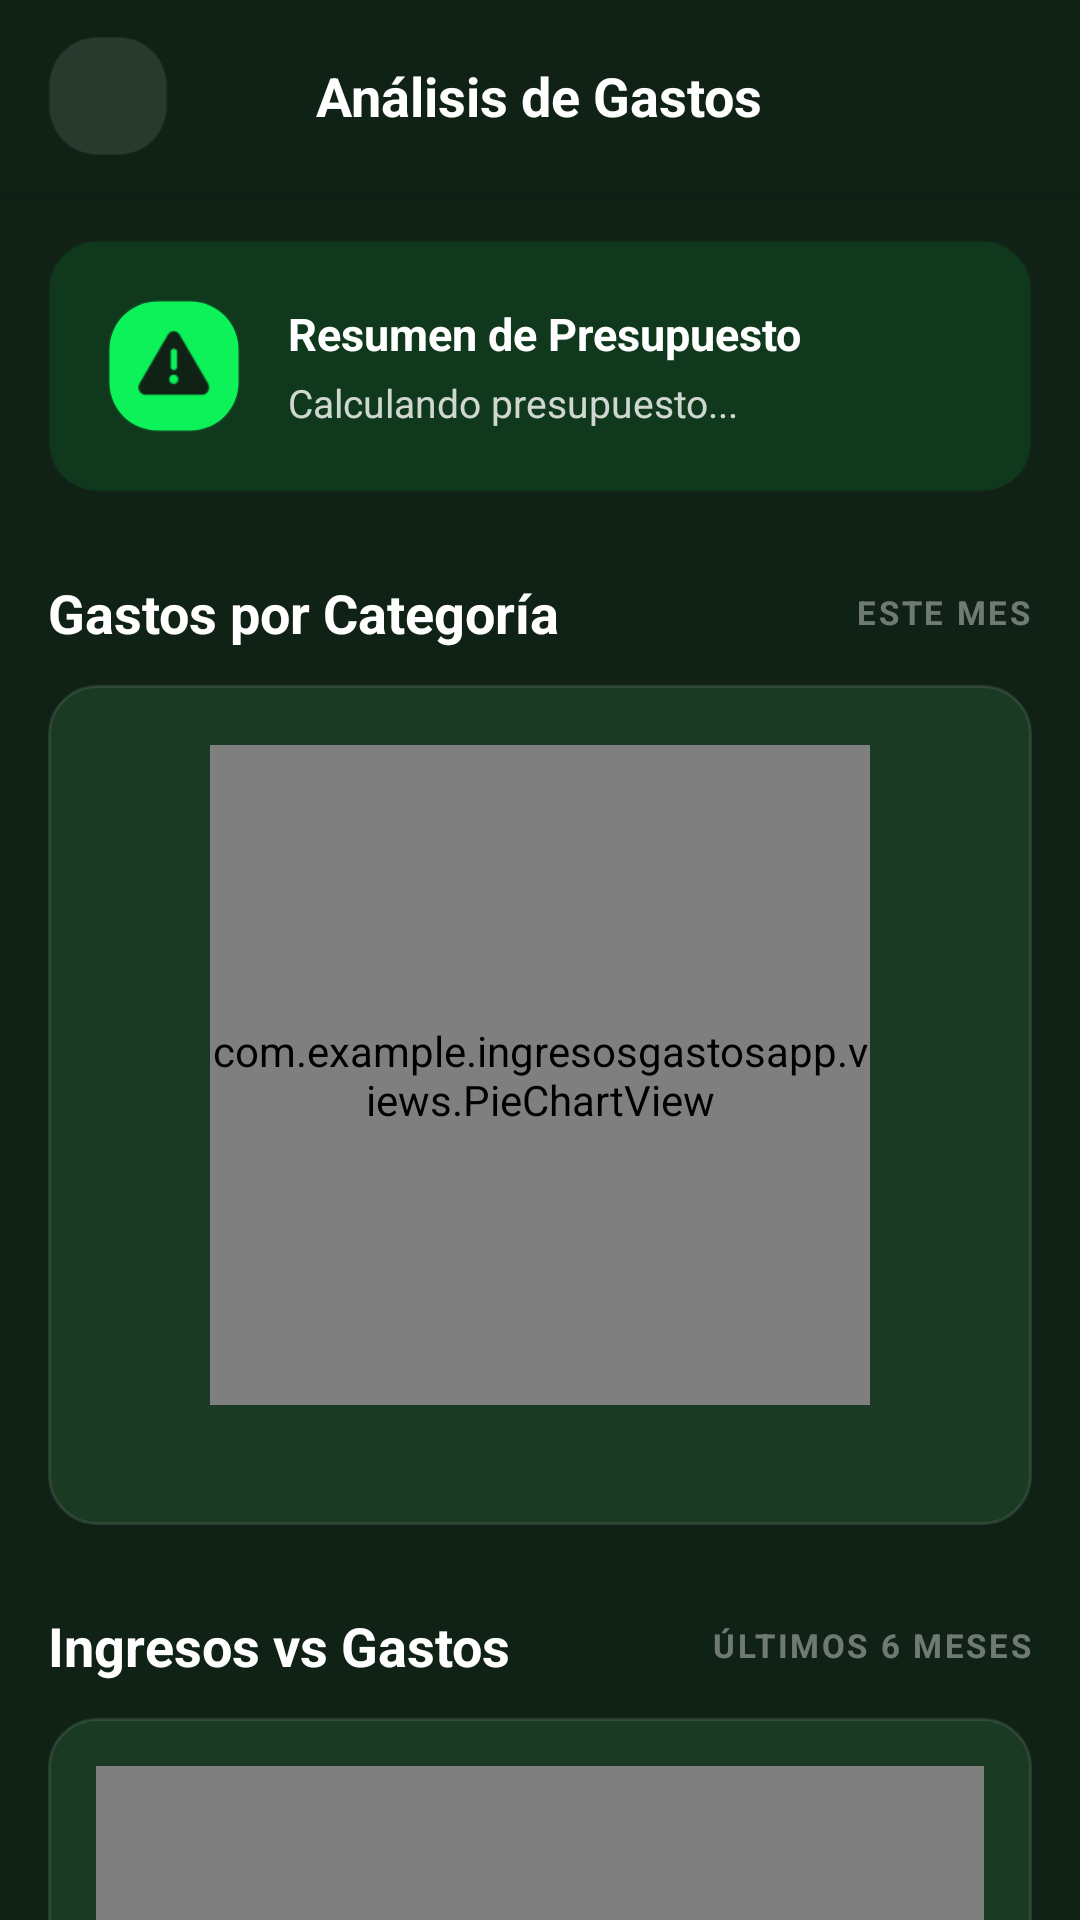

Icon bounding boxes for this 1080x1920 phone screenshot, format (x1, y1, x2, y2):
alert: (138, 330, 210, 396)
